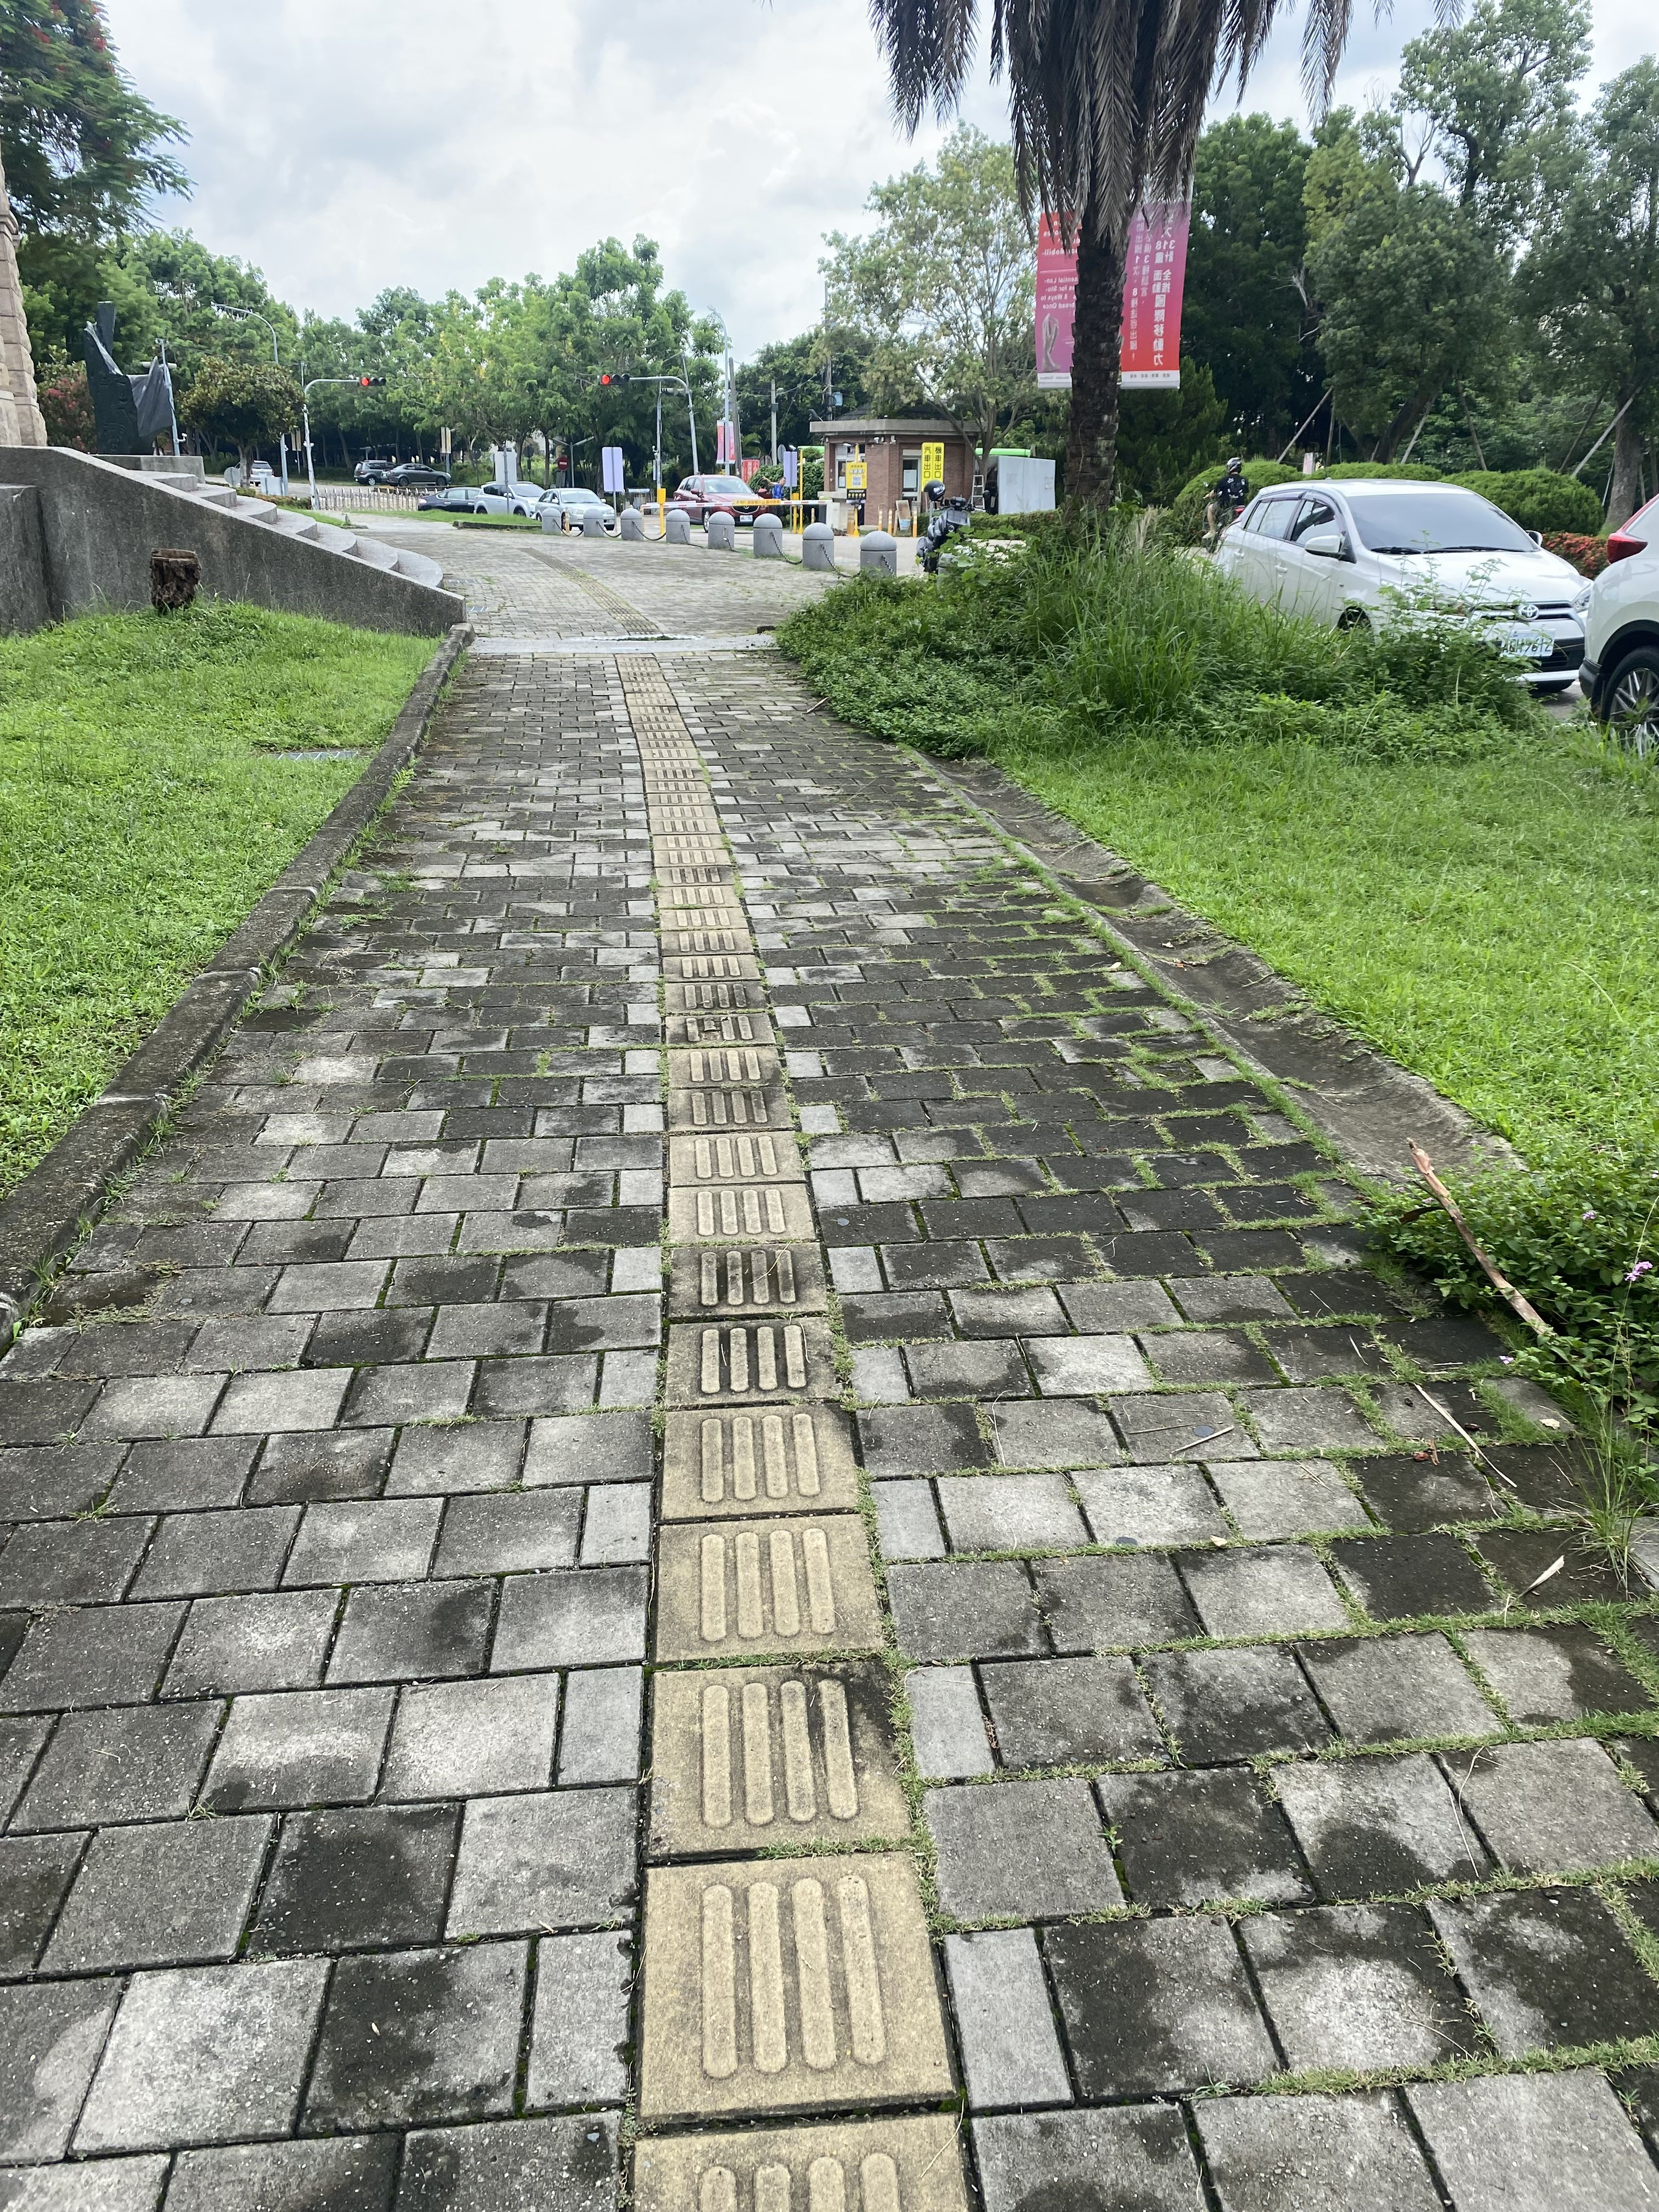0: (5, 740, 1659, 2212)
sidewalk: (347, 482, 906, 1076)
